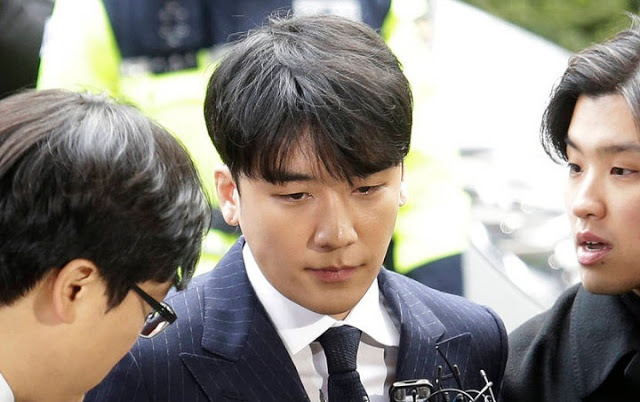bad: (253, 150, 408, 305), (545, 128, 640, 235)
